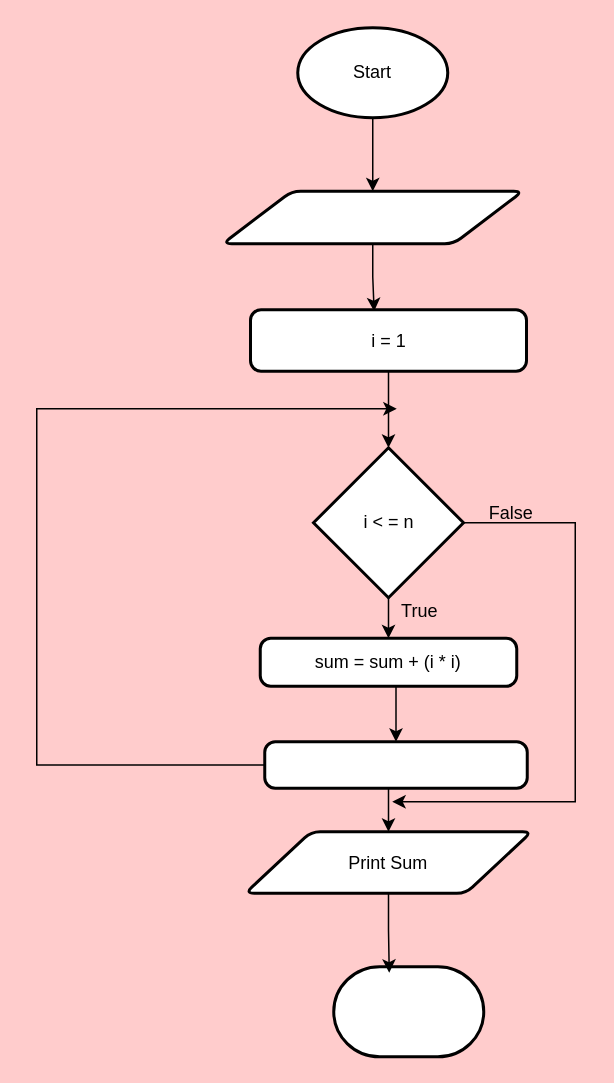
The diagram is 614 pixels wide and 1083 high, and some of its shapes have lost their labels. Here are the shapes that lost their labels. From the top down, the box of each, then its label:
(220, 189, 524, 244): int i, n, sum=0
(262, 740, 528, 789): i = i + 1
(332, 964, 484, 1058): End
